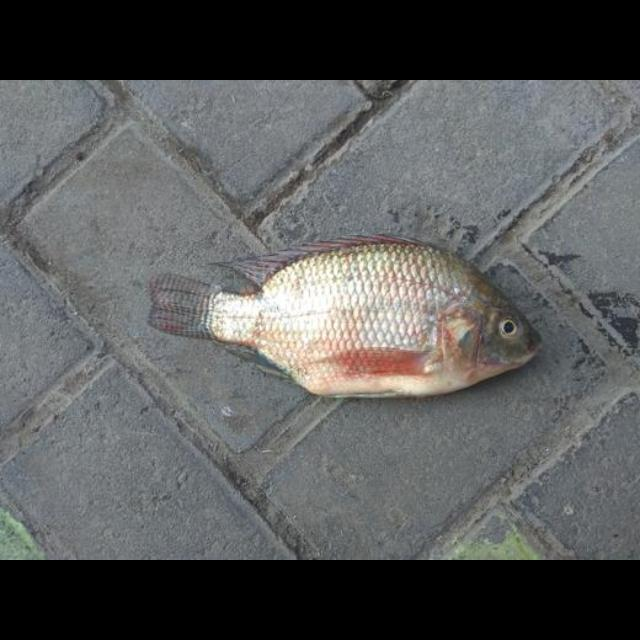Tilapia: (154, 235, 544, 402)
